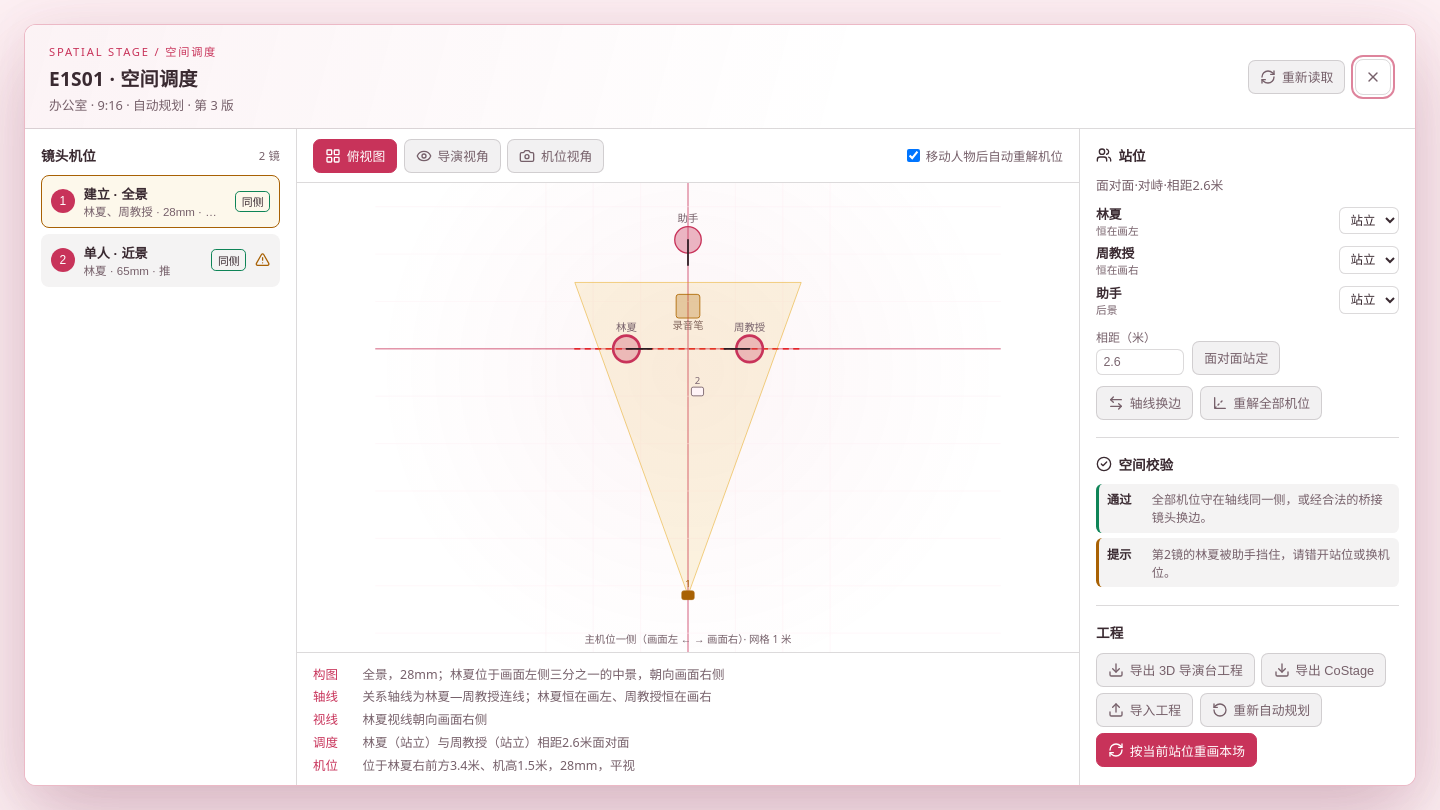
it: SpatialStageDialog › explains a conflict and lets the user read the plan again
Later steps or results of the test are not shown.
expect the picture named "E1S01 空间调度俯视图" is shown: met, box [297, 183, 1079, 652]
Click the button "重解全部机位".
click(1261, 403)  # box [1200, 386, 1322, 420]
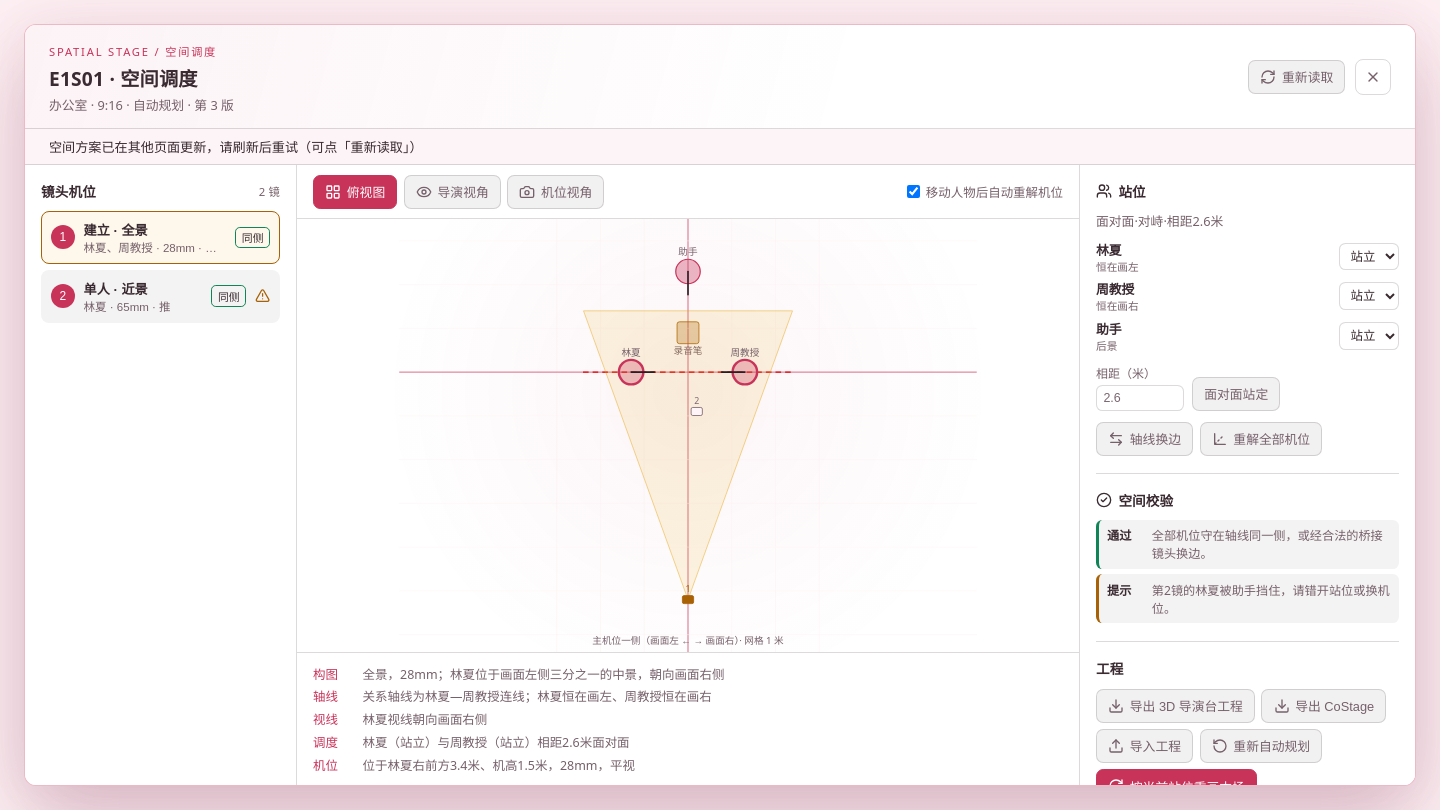
expect the text "空间方案已在其他页面更新，请刷新后重试（可点「重新读取」）" is shown: met, box [25, 129, 1415, 165]
